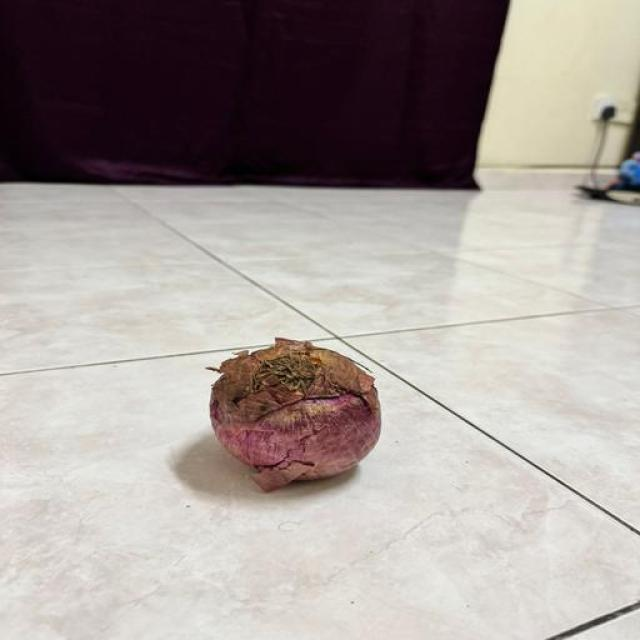organic: (205, 218, 443, 561)
